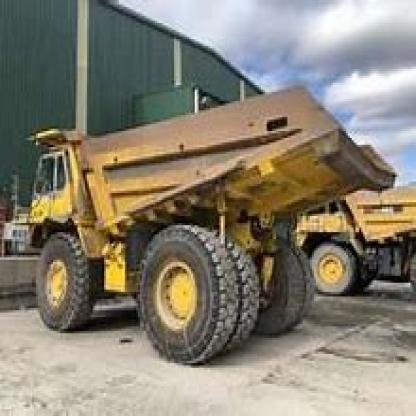dump_truck: (25, 83, 390, 365)
